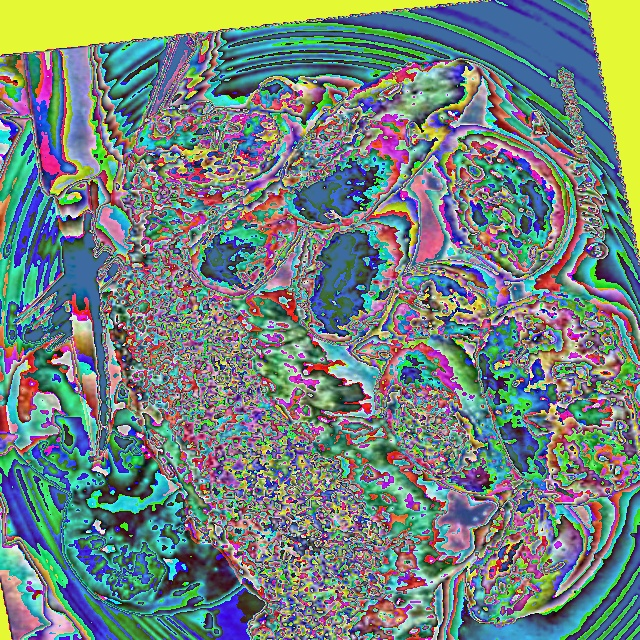background: (4, 60, 639, 639)
